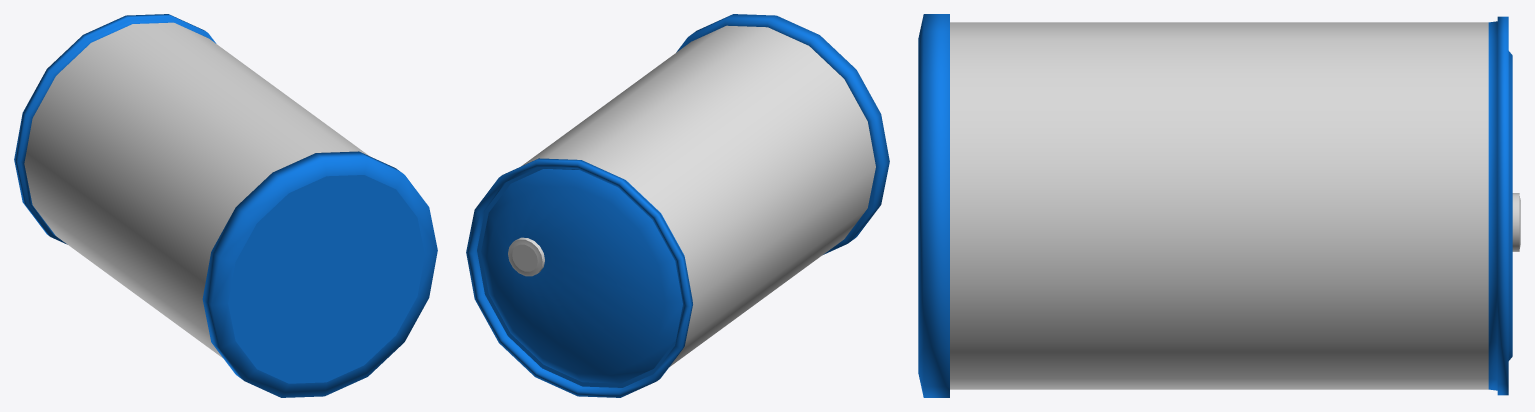
File: bar2.obj
3 renders of one model, left to right at view 1: azimuth 30°, elevation 25°; view 2: azimuth 150°, elevation 25°; view 3: azimuth 270°, elevation 25°, orthographic. The views are drawn at different scales.
Visible parts, largest first — view 1: Cylinder2; view 2: Cylinder2; view 3: Cylinder2.
Part boxes in pixels (<box>): Cylinder2: <box>14,14,437,397</box>; Cylinder2: <box>466,14,889,397</box>; Cylinder2: <box>918,14,1520,397</box>.
Bounding box in the file's own units: 2.5 × 2.5 × 3.92.
